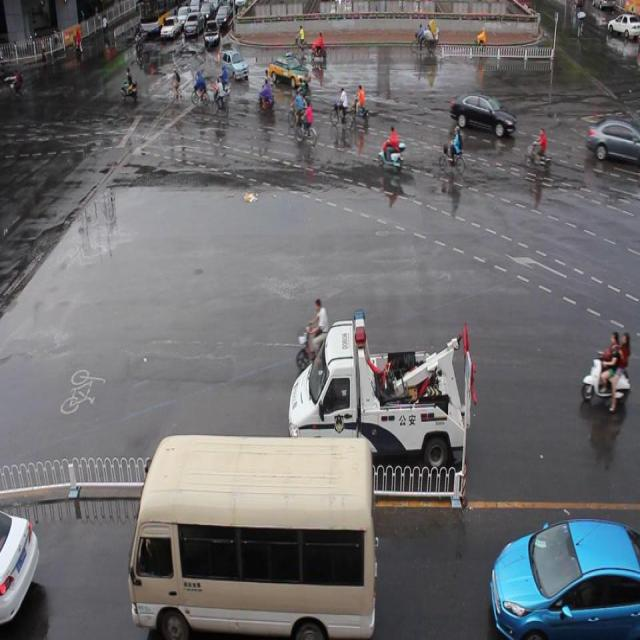bus: (288, 307, 475, 475)
car: (488, 515, 640, 640), (1, 504, 39, 624), (448, 90, 515, 136), (585, 118, 640, 165), (269, 53, 311, 87), (221, 48, 248, 82)
truck: (129, 430, 376, 640)
